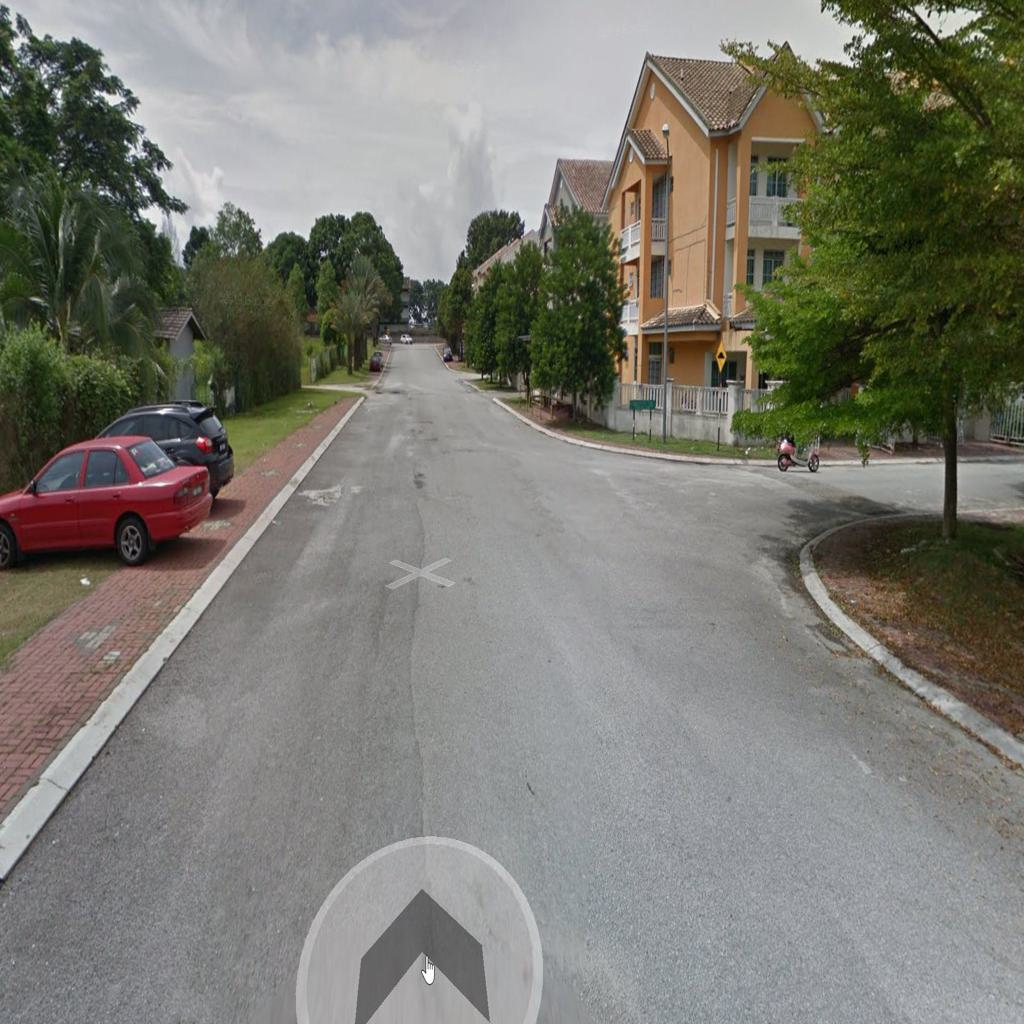Junction: (589, 379, 940, 636)
